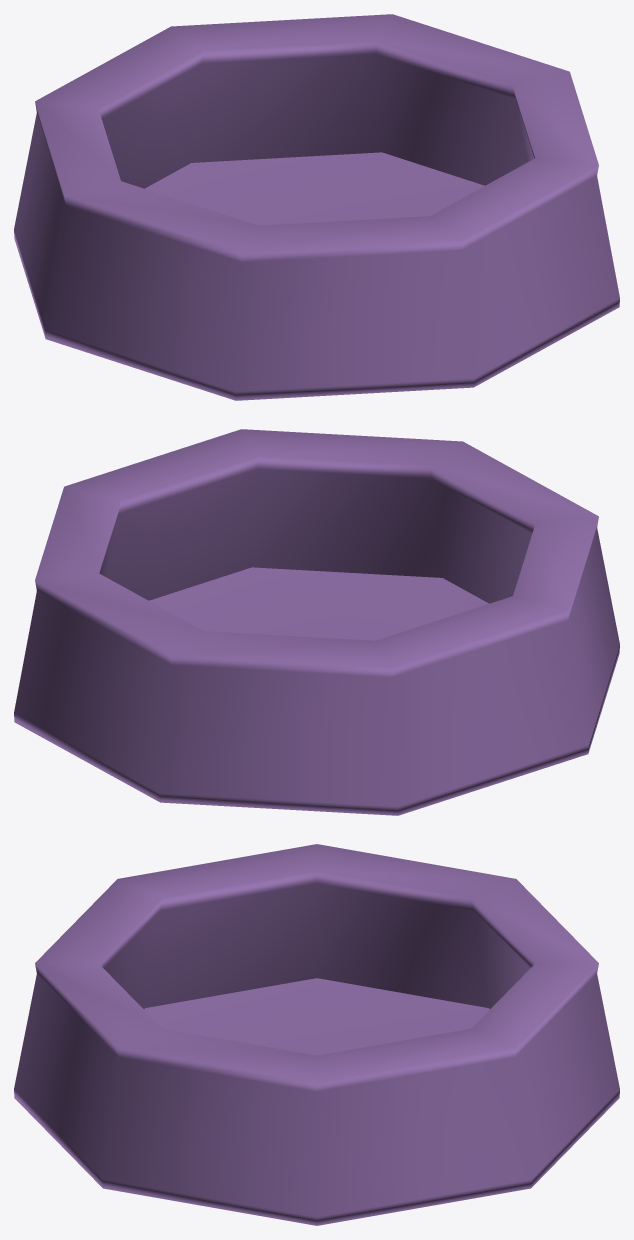
Rendered from KhanomJeenJar.fbx.
3 renders of one model, top to bottom at view 1: azimuth 30°, elevation 25°; view 2: azimuth 150°, elevation 25°; view 3: azimuth 270°, elevation 25°, orthographic. The views are drawn at different scales.
Visible parts, largest first — view 1: Noodle_01; view 2: Noodle_01; view 3: Noodle_01.
Boxes of the visible parts, <box> form: Noodle_01: <box>14,14,619,400</box>; Noodle_01: <box>14,429,619,815</box>; Noodle_01: <box>14,844,619,1225</box>.
Size of the model in its own units: 0.9149 by 0.2246 by 0.9149.
